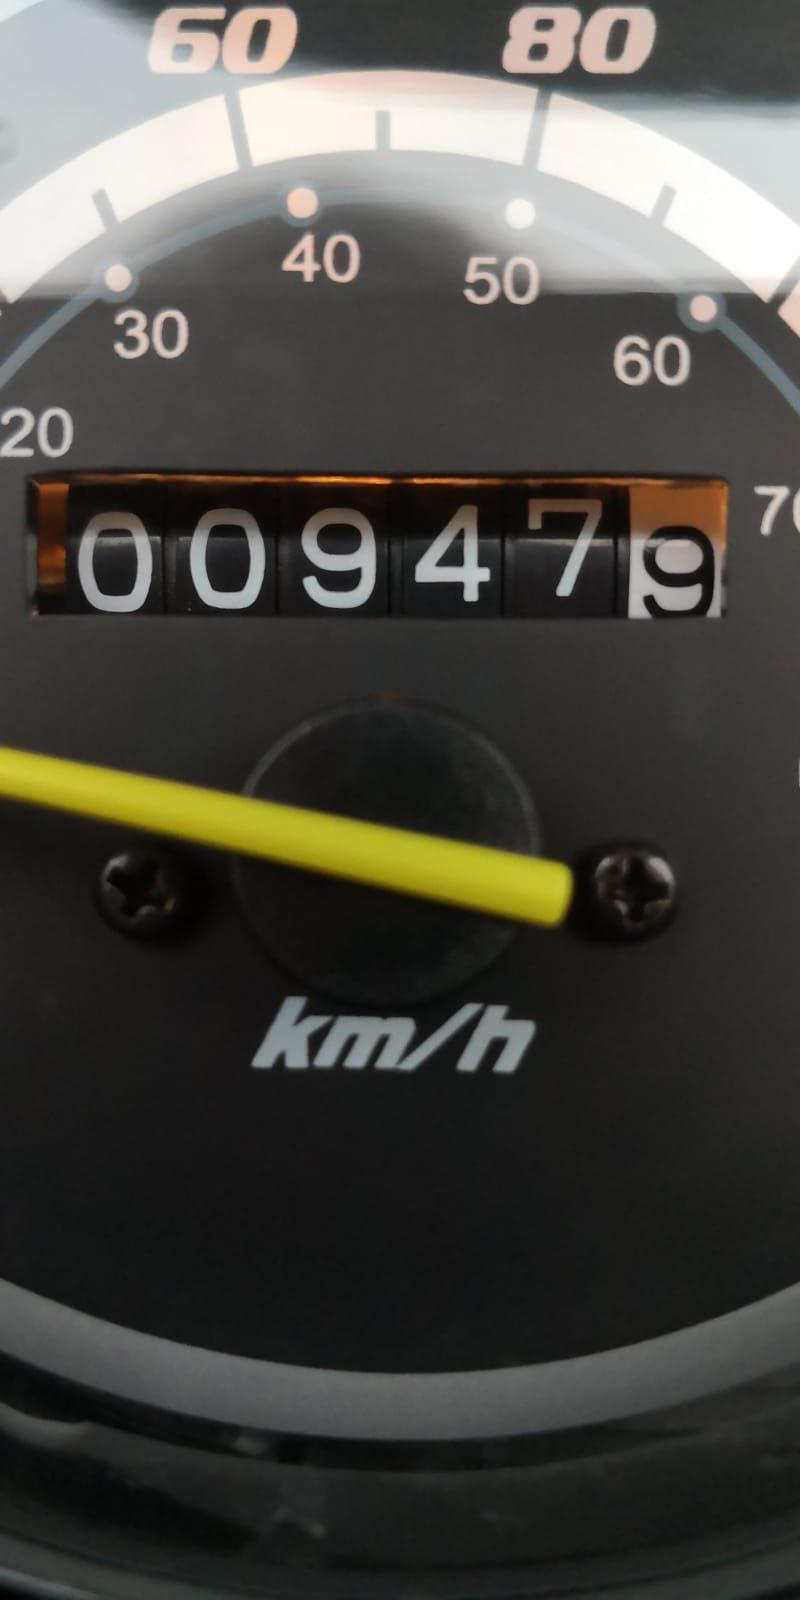0: (178, 488, 268, 620), (66, 503, 160, 618)
4: (408, 493, 500, 609)
7: (521, 491, 603, 604)
9: (285, 497, 381, 617), (637, 516, 713, 626)
odometer: (21, 460, 755, 650)
